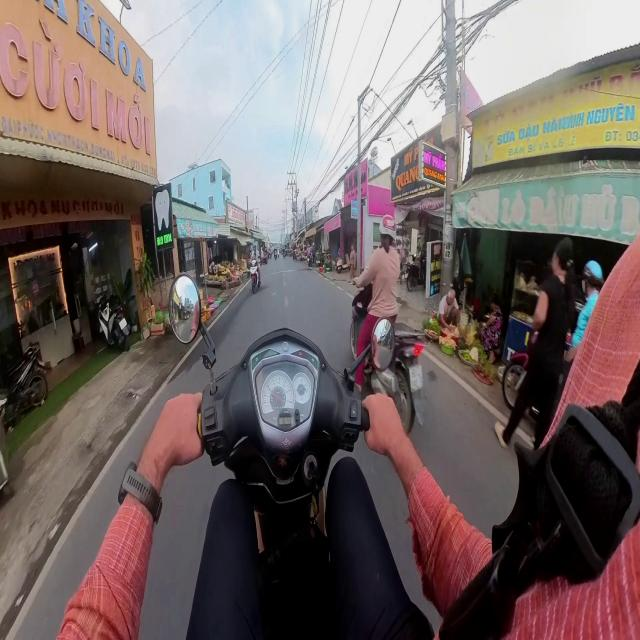motorcycle: (198, 323, 370, 639), (365, 323, 425, 433), (0, 347, 47, 430), (98, 297, 131, 351), (502, 352, 529, 410), (406, 255, 425, 291), (250, 259, 259, 293)
